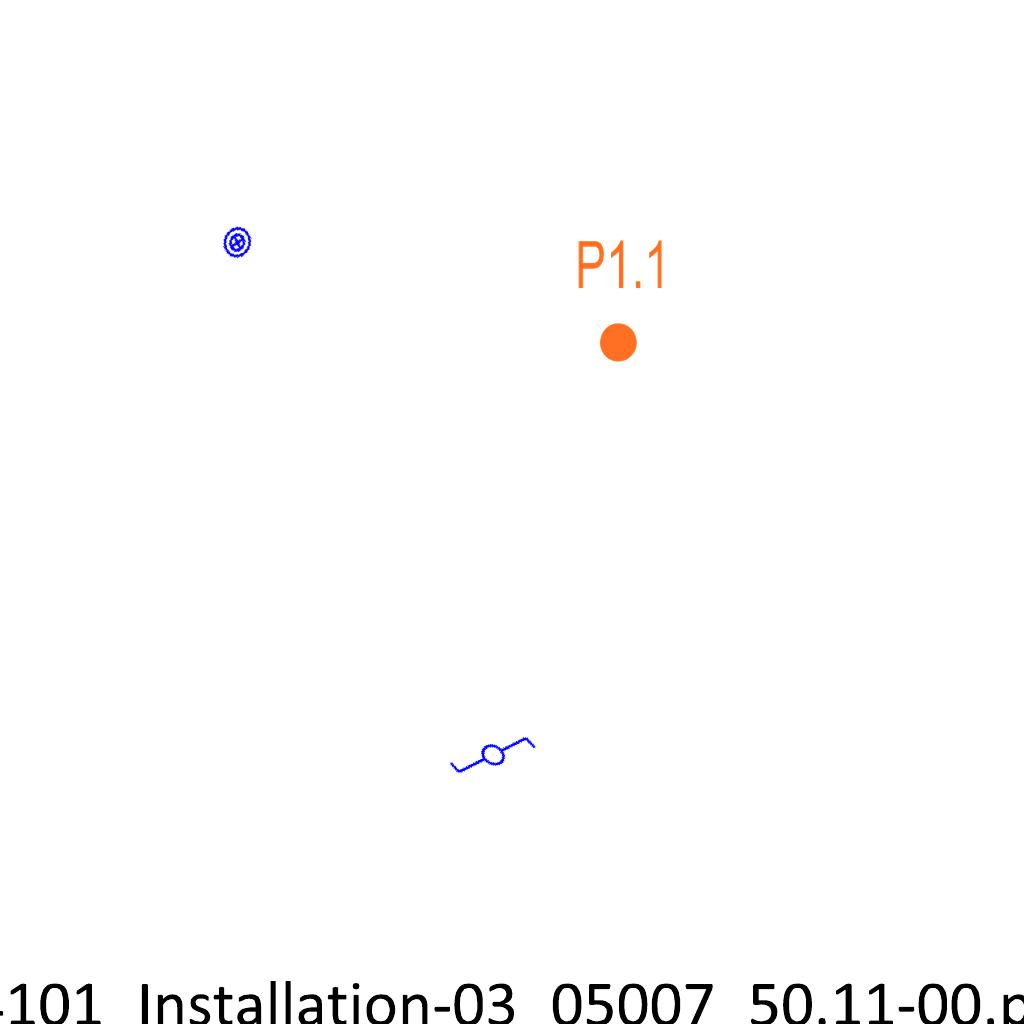Downlight_LED_Einbauleuchten_Flur: (575, 237, 668, 365)
Taster_beleuchtet: (217, 222, 258, 263)
Wechselschalter: (444, 707, 548, 809)
